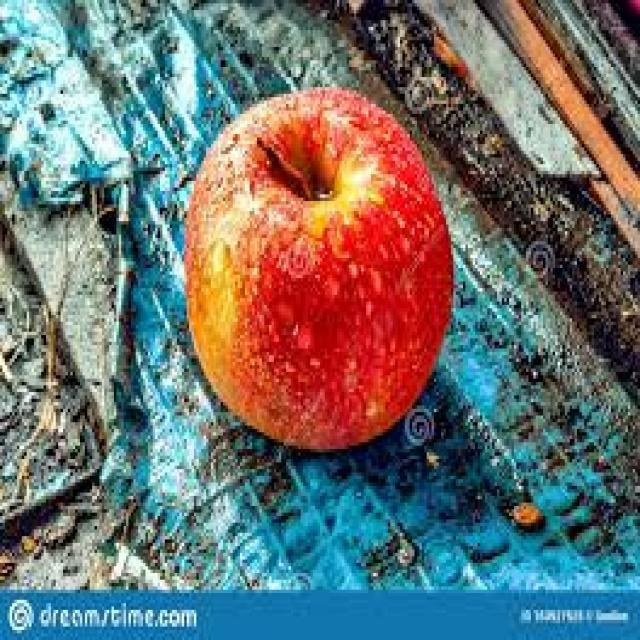Rotten: (175, 85, 455, 455)
